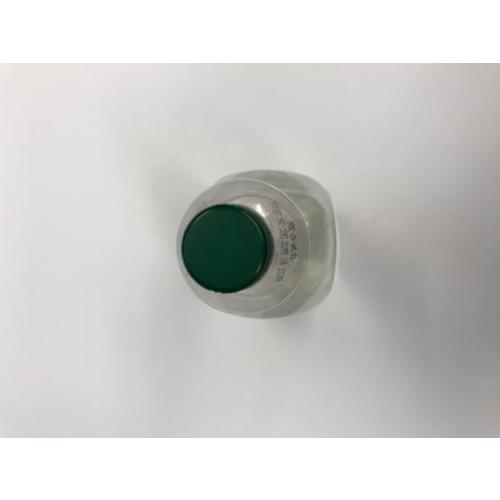plastic: (176, 169, 338, 320)
